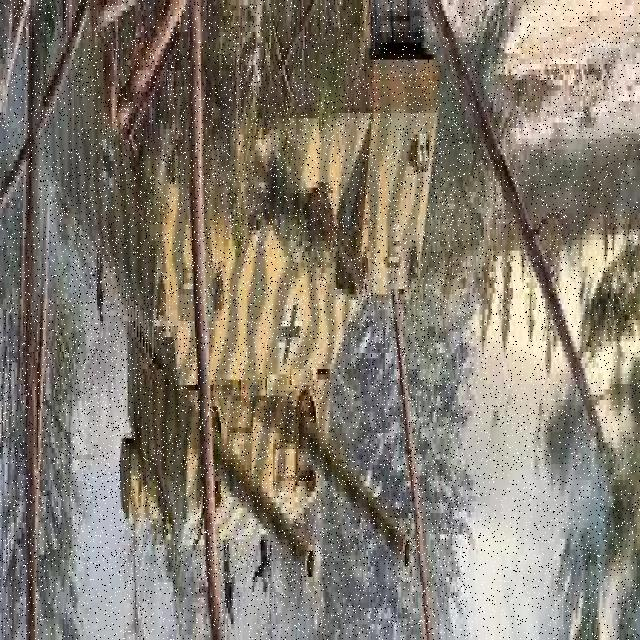MIL_MBT: (73, 49, 464, 581)
